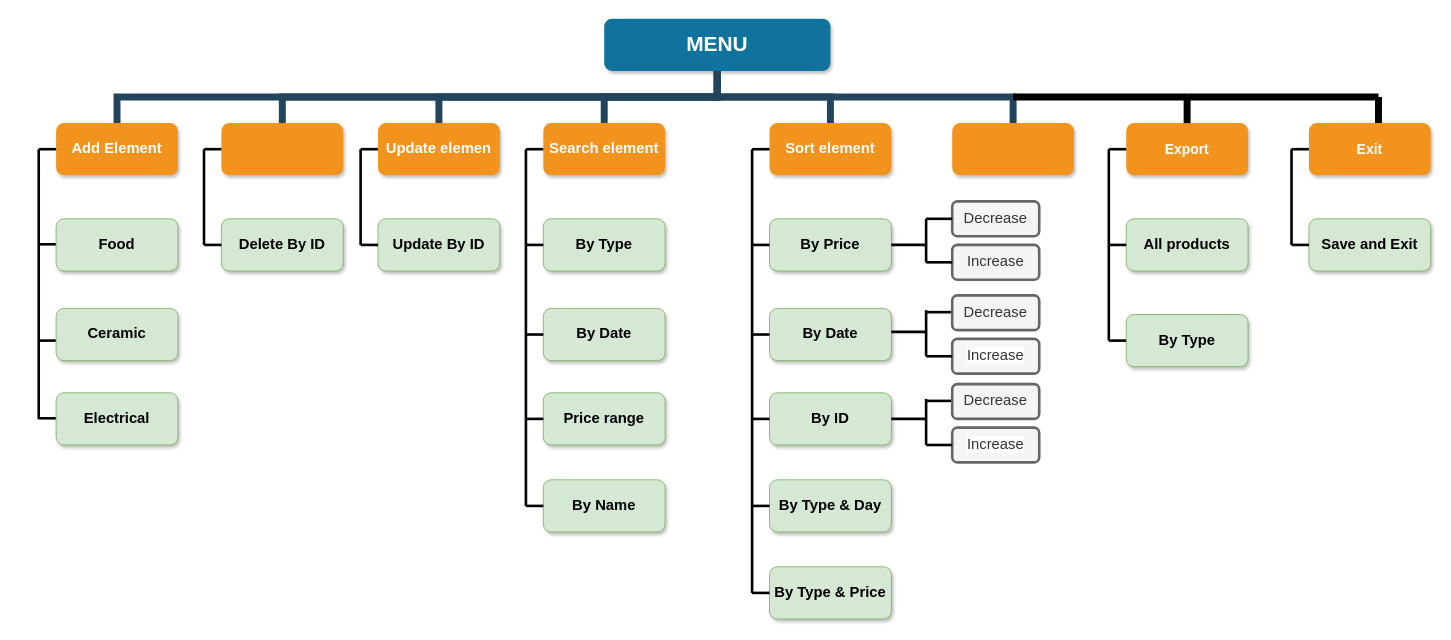
The diagram is 1451 pixels wide and 640 high, and some of its shapes have lost their labels. Here are the shapes that lost their labels. From the top down, the centre of each, then its label:
point (283, 150): Delete Dlement
point (1013, 150): Statistic
